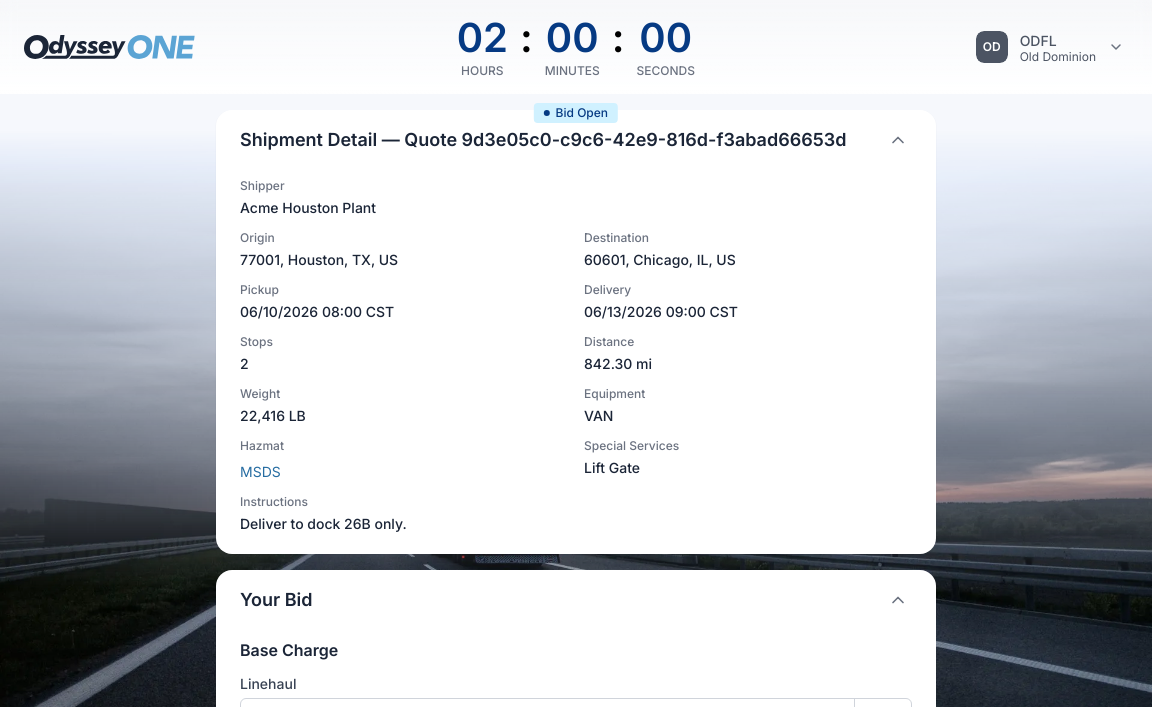
Test: CarrierBid — open quote › both sections render expanded by default and can be collapsed
Check: the text "Acme Houston Plant" is shown, box [240,198,376,218]
Click the button "Shipment Detail — Quote 9d3e05c0-c9c6-42e9-816d-f3abad66653d" at [576, 140], box [240,126,912,154]
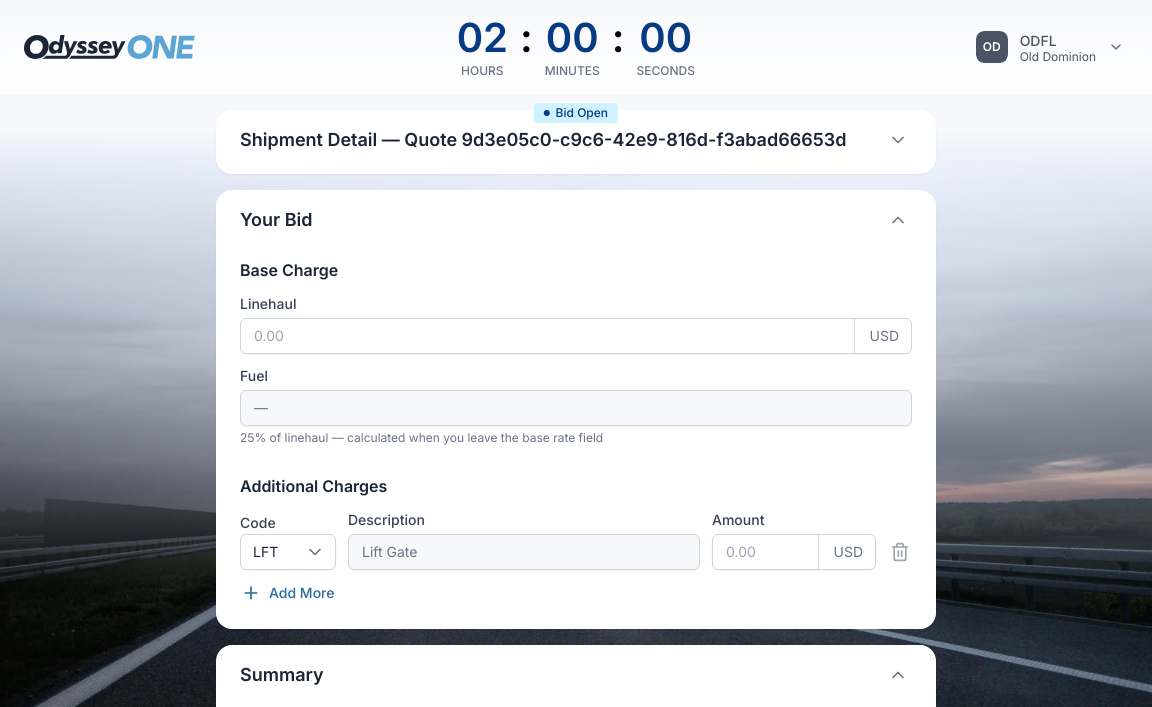
Check: the button "Shipment Detail — Quote 9d3e05c0-c9c6-42e9-816d-f3abad66653d" is collapsed, box [240,126,912,154]
